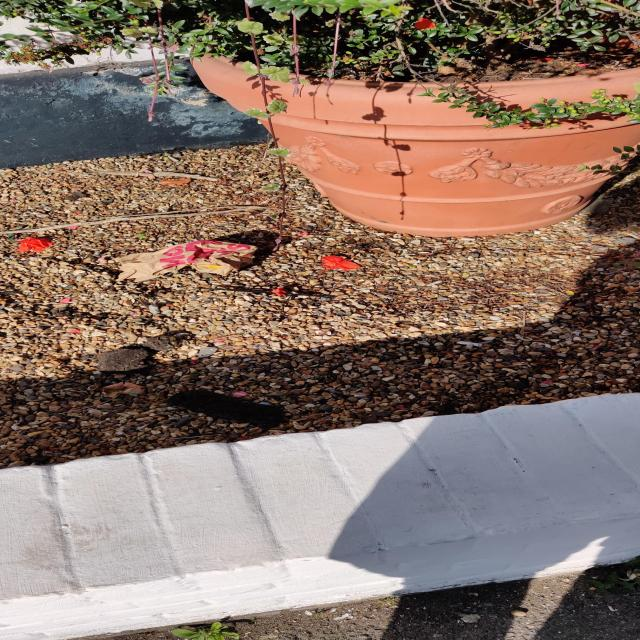litter: (115, 239, 262, 284)
